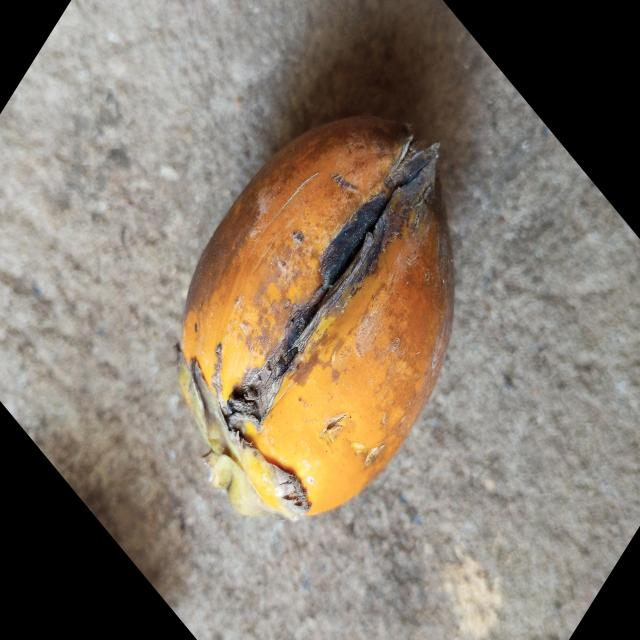damaged: (179, 117, 455, 524)
